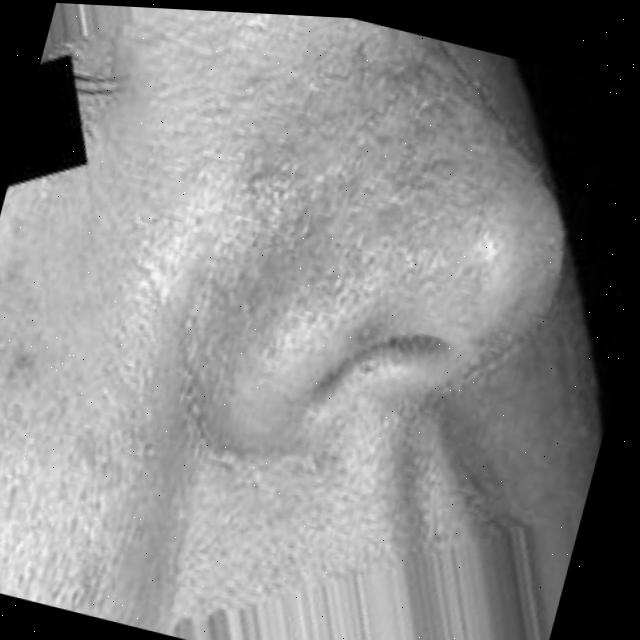Rosacea: (311, 27, 458, 169)
